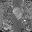people: (13, 7, 22, 21)
